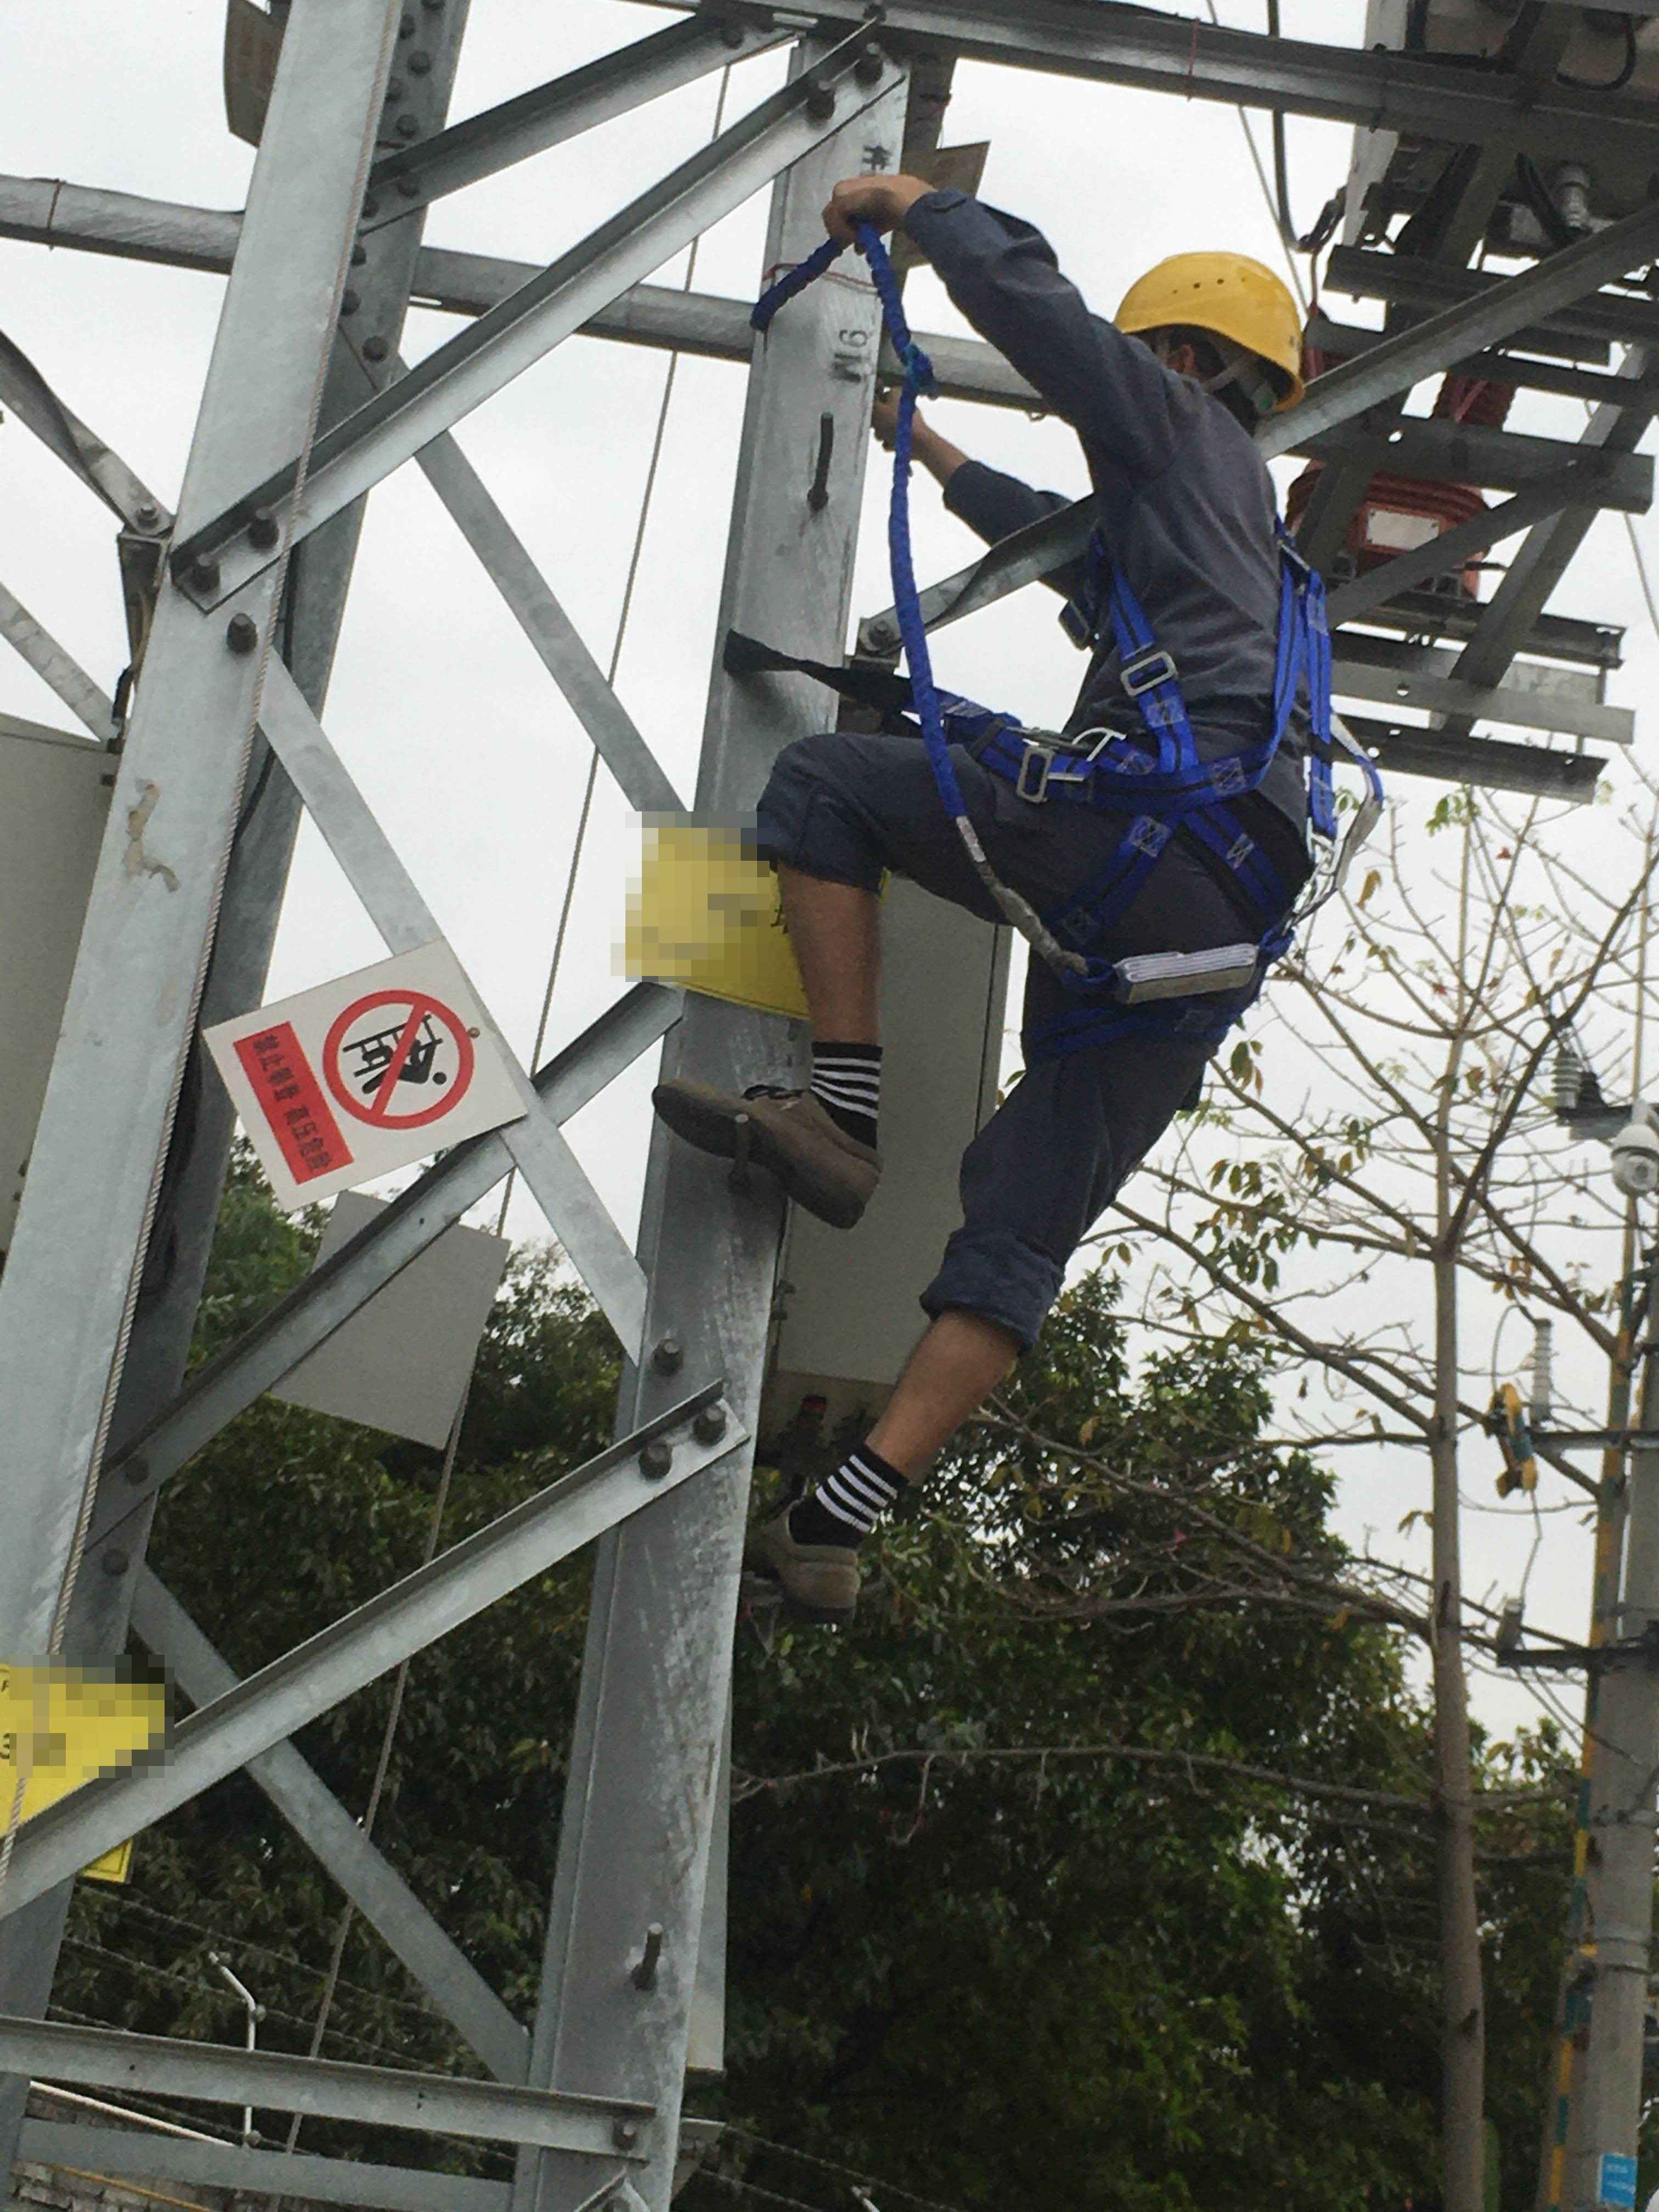downsuit: (753, 726, 1255, 1322)
upsuit: (1011, 395, 1317, 773)
wrongbottom: (835, 1273, 1037, 1550), (756, 812, 920, 1083)
